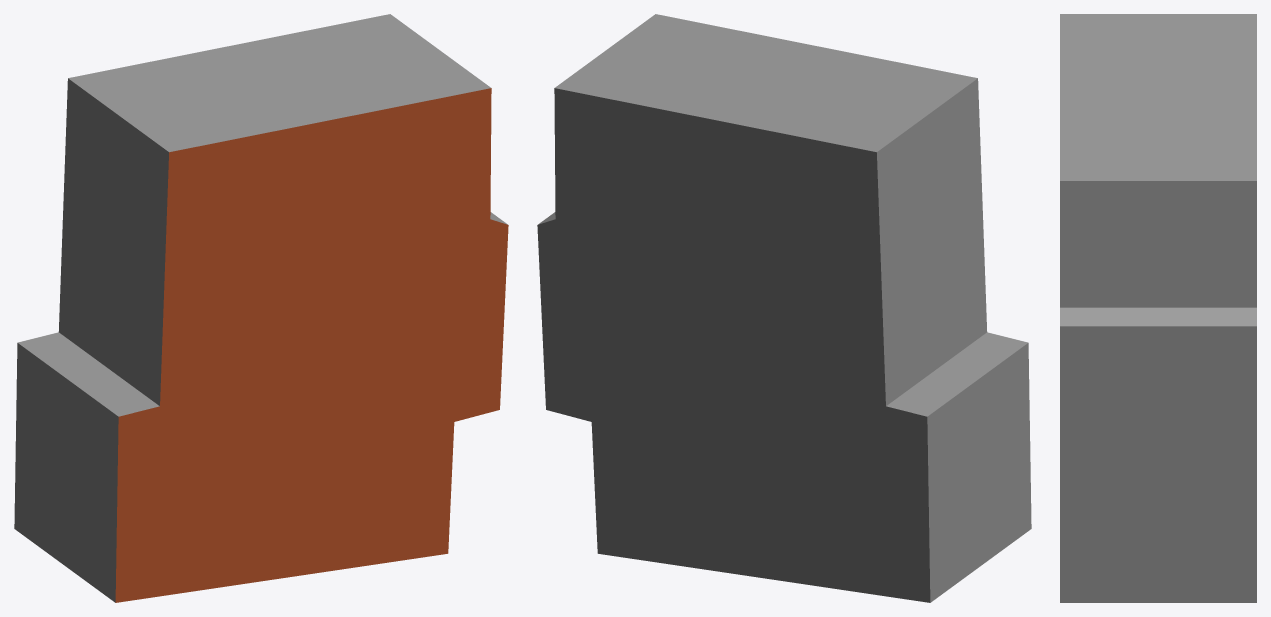
File: construction_1007_assumed_A_Casa_h6m.obj
3 renders of one model, left to right at view 1: azimuth 30°, elevation 25°; view 2: azimuth 150°, elevation 25°; view 3: azimuth 270°, elevation 25°, orthographic. The views are drawn at different scales.
Visible parts, largest first — view 1: construction_1007_assumed_A_Casa; view 2: construction_1007_assumed_A_Casa; view 3: construction_1007_assumed_A_Casa.
Part boxes in pixels (x1,y1,x2,y2): construction_1007_assumed_A_Casa: [14, 14, 508, 602]; construction_1007_assumed_A_Casa: [537, 14, 1031, 602]; construction_1007_assumed_A_Casa: [1060, 14, 1256, 602].
Size of the model in its own units: 13.45 by 15.36 by 6.
